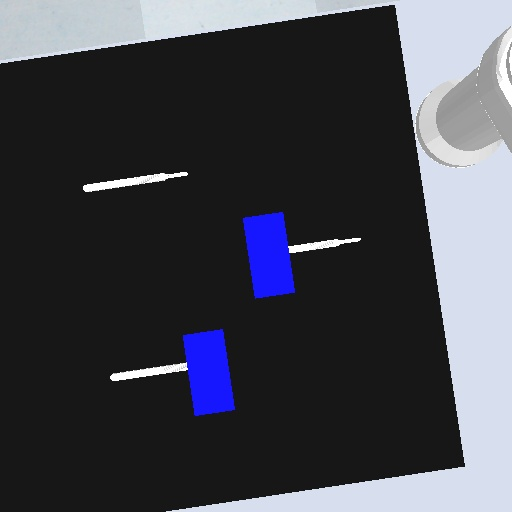bisturi: (80, 168, 193, 194), (108, 360, 189, 383), (287, 234, 364, 255)
